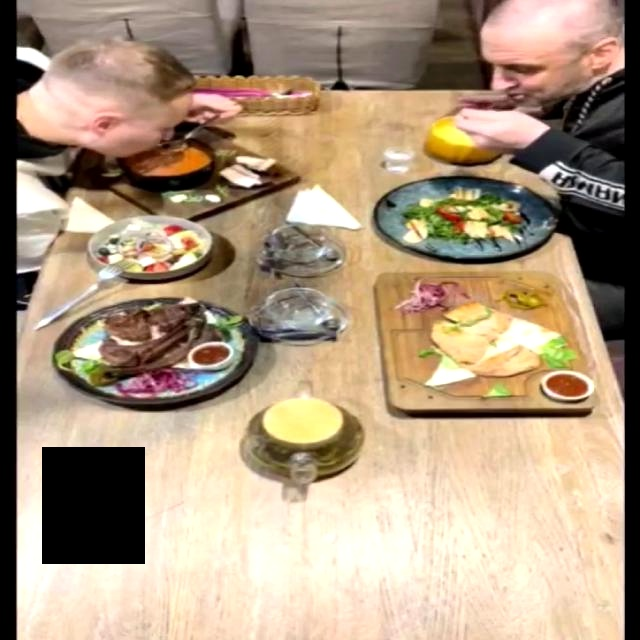meat: (372, 275, 596, 414), (49, 295, 260, 405)
salad: (375, 175, 562, 260), (85, 212, 214, 280)
soup: (71, 129, 304, 221), (425, 115, 503, 162)
tea: (233, 370, 377, 509)
